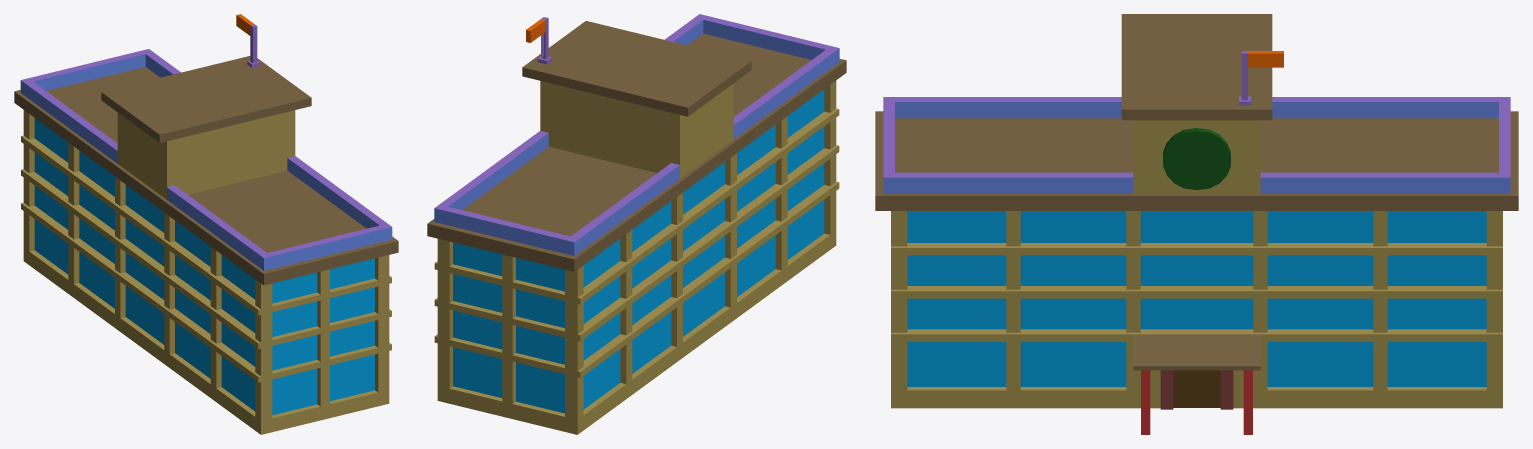
File: School.fbx
3 renders of one model, left to right at view 1: azimuth 30°, elevation 25°; view 2: azimuth 150°, elevation 25°; view 3: azimuth 270°, elevation 25°, orthographic. The views are drawn at different scales.
Visible parts, largest first — view 1: School; view 2: School; view 3: School.
Boxes of the visible parts, x1,y1,x2,y2 form: School: (14,14,398,434); School: (427,14,846,434); School: (875,14,1518,434).
Bounding box in the file's own units: 19.07 × 27.38 × 44.66.
